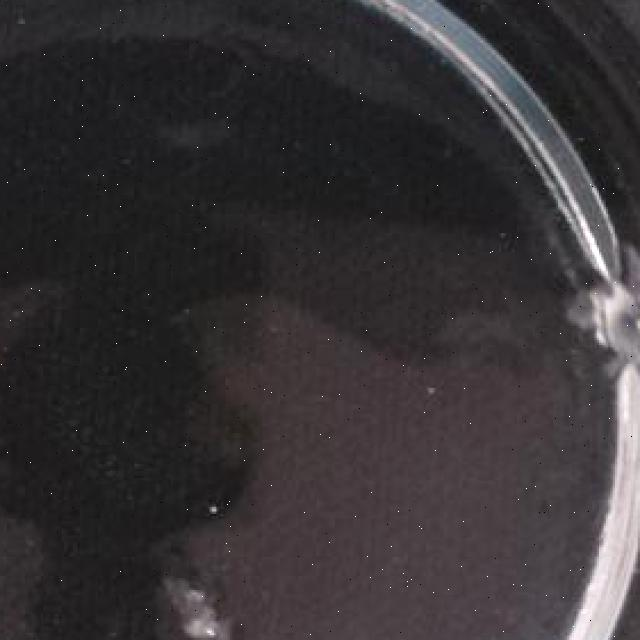Microplastic: (567, 228, 640, 386), (150, 537, 252, 640)
